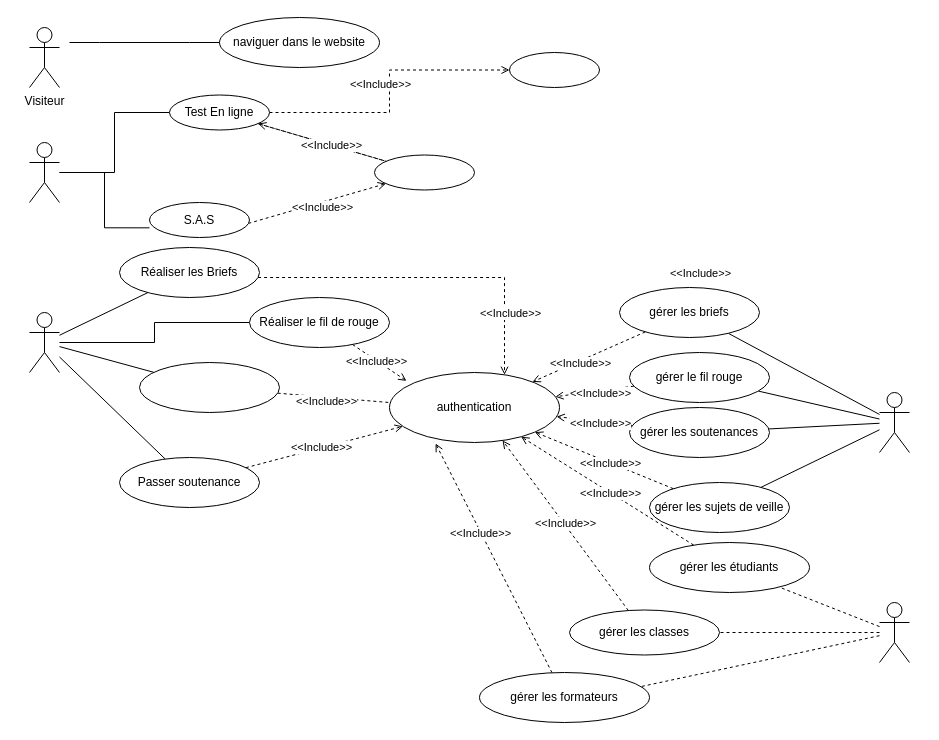
Image size: 939x740. Some labels were removed from this diagram. The centre of each missing label's shape, as x and y in pixels:
"Admin" goes at [894,632].
"Apprenant" goes at [44,342].
"Candidat" goes at [44,172].
"Formateur" goes at [894,422].
"Register" goes at [554,70].
"Réaliser Sujet de veille" goes at [209,387].
"Sourcing" goes at [424,172].
